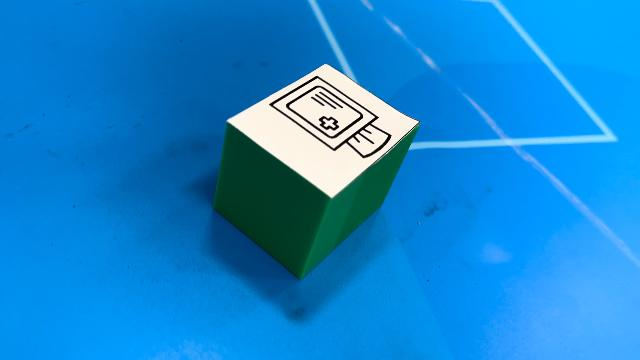napkin: (210, 62, 422, 280)
